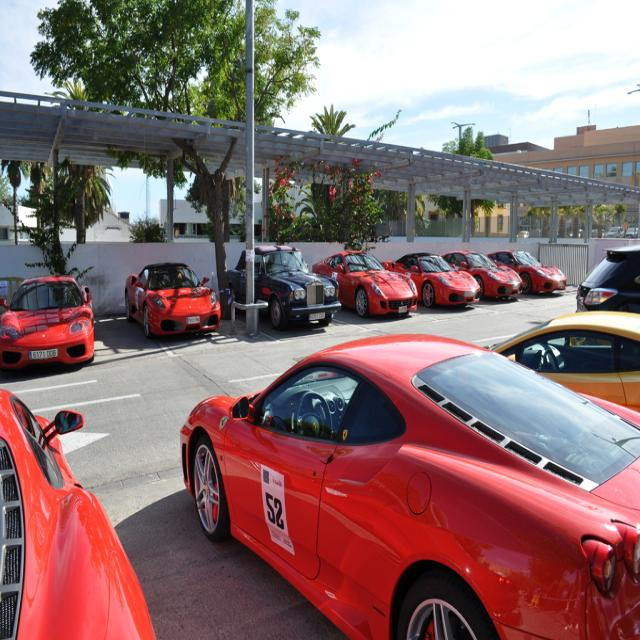car: (124, 257, 225, 346)
